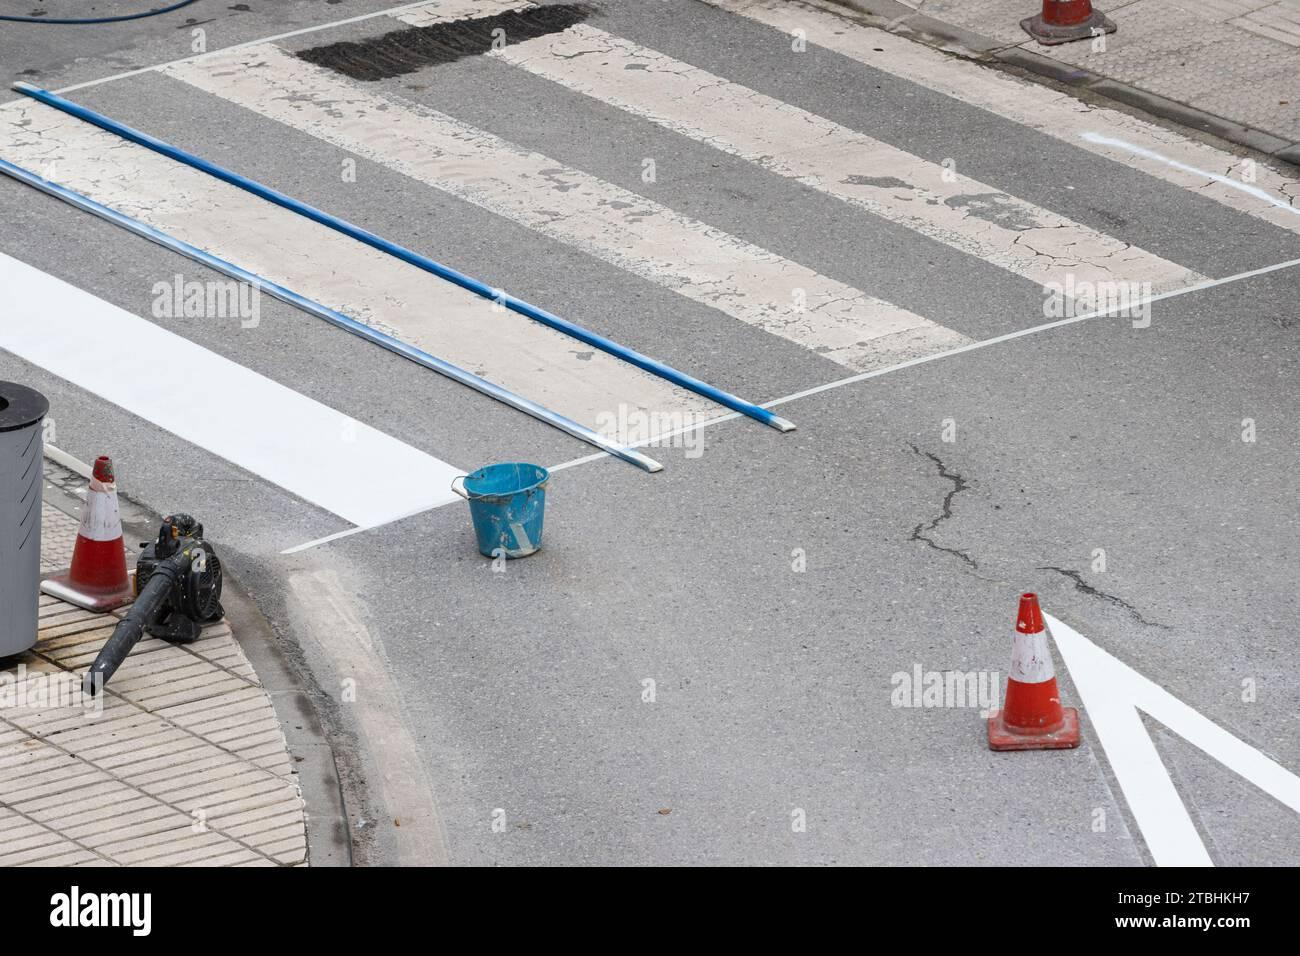faded_road_lines: (162, 44, 968, 373), (381, 0, 1208, 298), (705, 0, 1299, 234)
